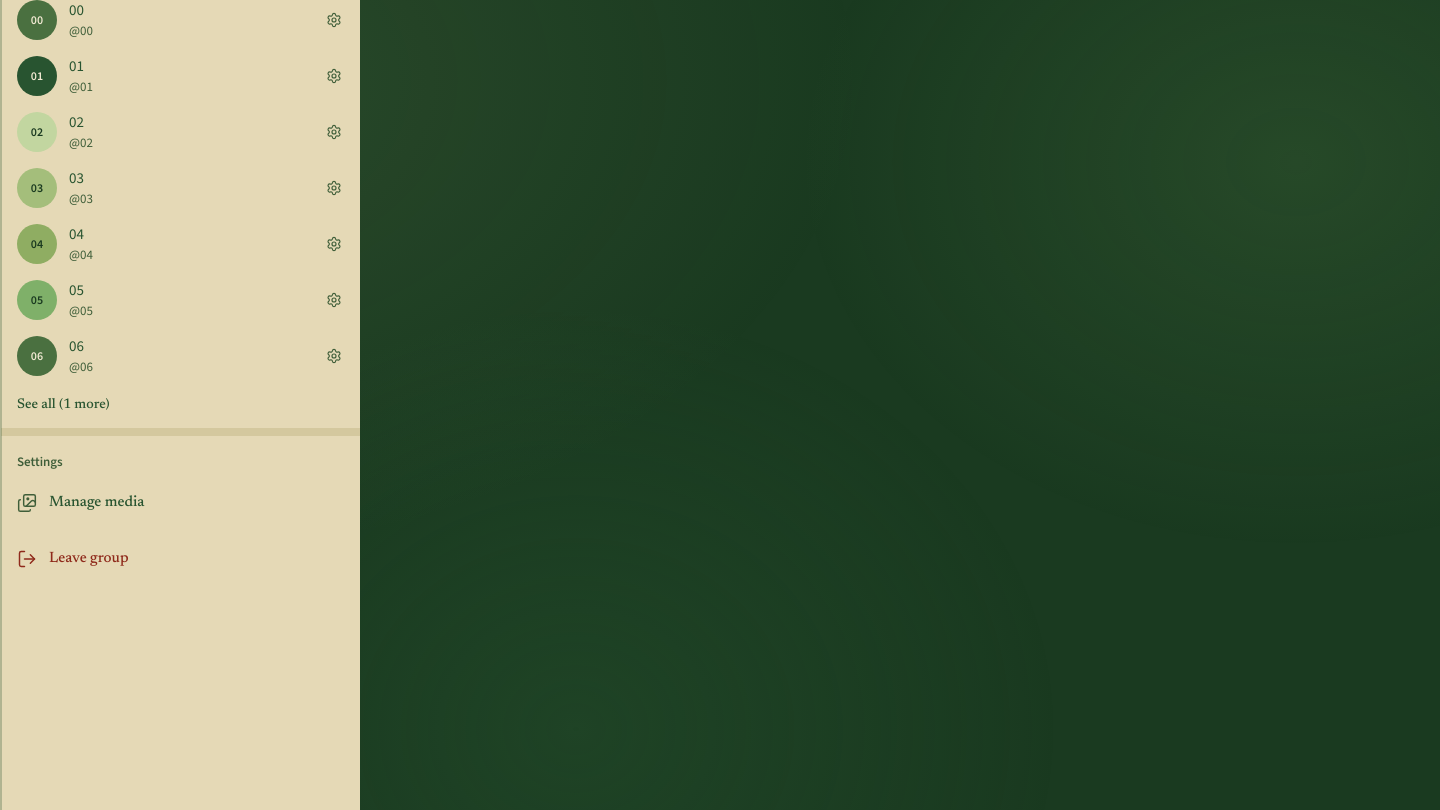
it: GroupInfoPanel › previews and expands a 9-member group in place
This screenshot has width=1440, height=810.
(page scrolled)
Click the button "See all (1 more)" at coordinates (40, 405), box [17,384,344,428]
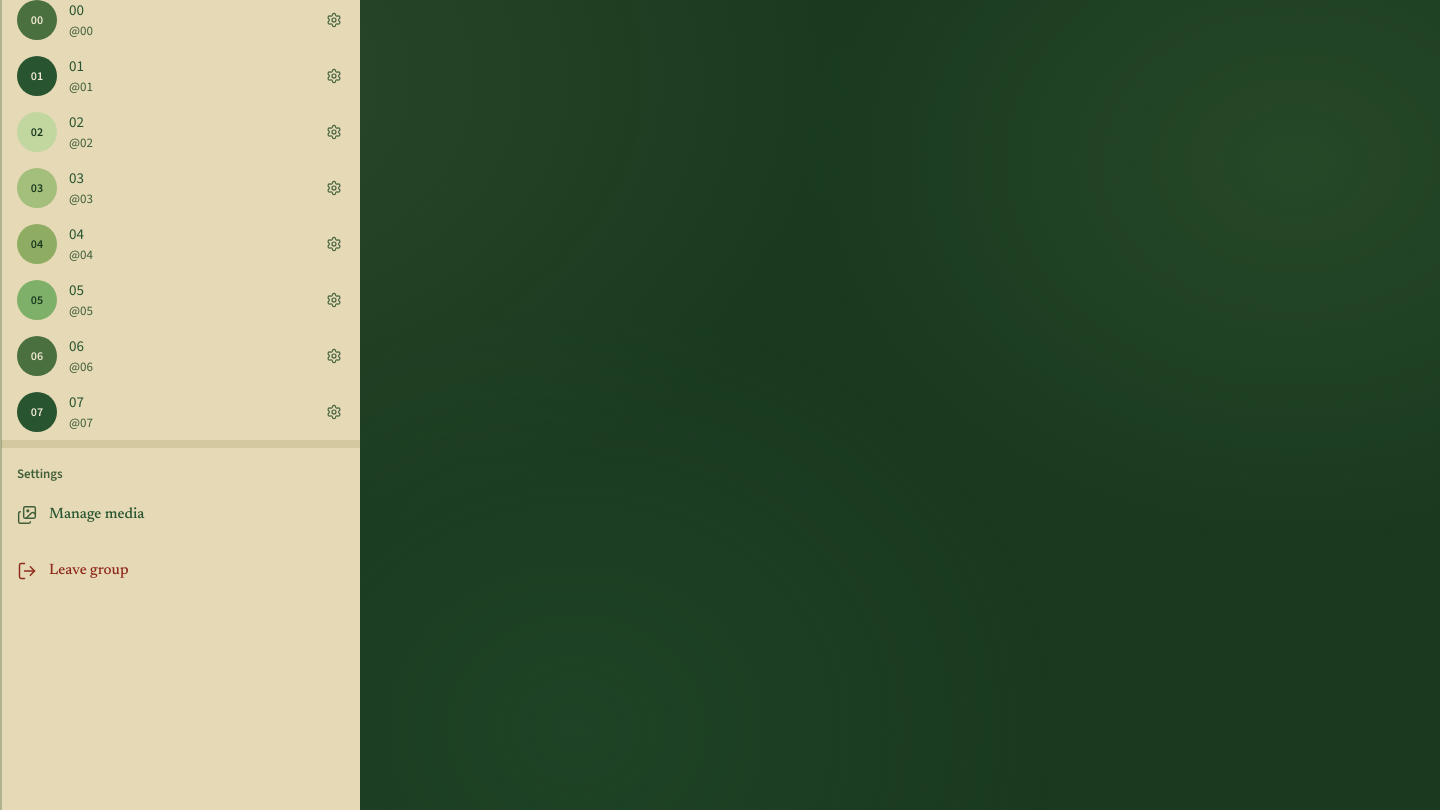
Expected: the button "See all" is gone
